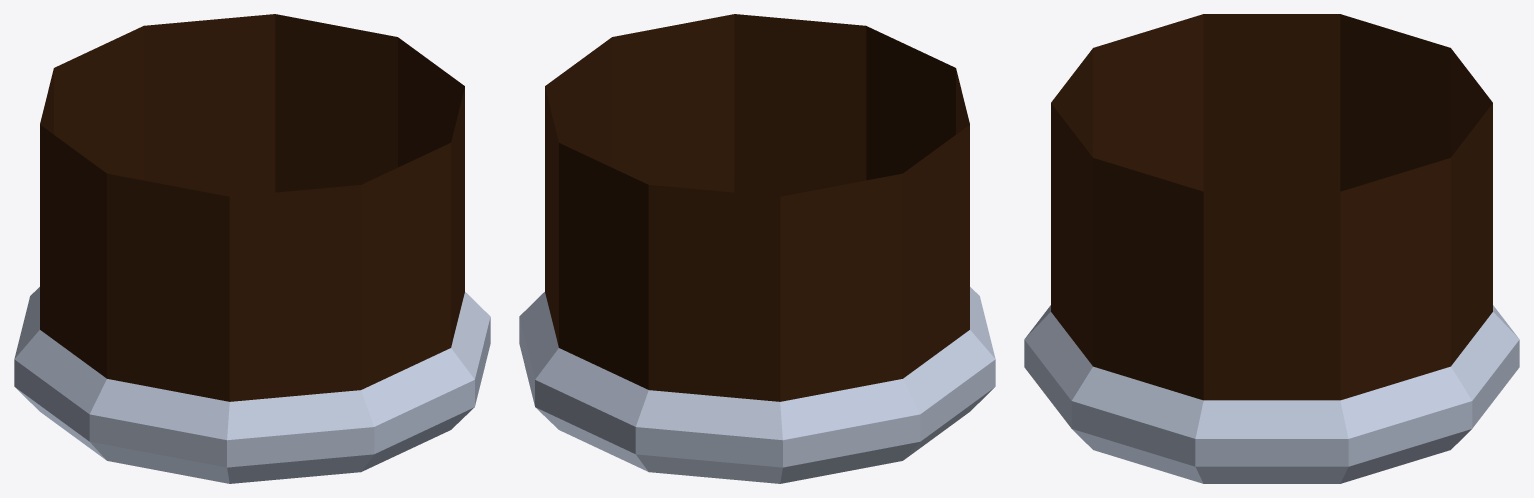
File: drum_bottom.obj
The picture shows the model from 3 angles, left to right: view 1: azimuth 30°, elevation 25°; view 2: azimuth 150°, elevation 25°; view 3: azimuth 270°, elevation 25°; orthographic projection.
Parts seen in each view (by area): view 1: Mesh1 drum_bottom1 Model; view 2: Mesh1 drum_bottom1 Model; view 3: Mesh1 drum_bottom1 Model.
Part boxes in pixels (x1,y1,x2,y2): Mesh1 drum_bottom1 Model: (14,14,490,483); Mesh1 drum_bottom1 Model: (519,14,995,483); Mesh1 drum_bottom1 Model: (1024,14,1519,483).
Size of the model in its own units: 0.4602 by 0.315 by 0.4838.
Materials: 2 (2 with a texture image).
